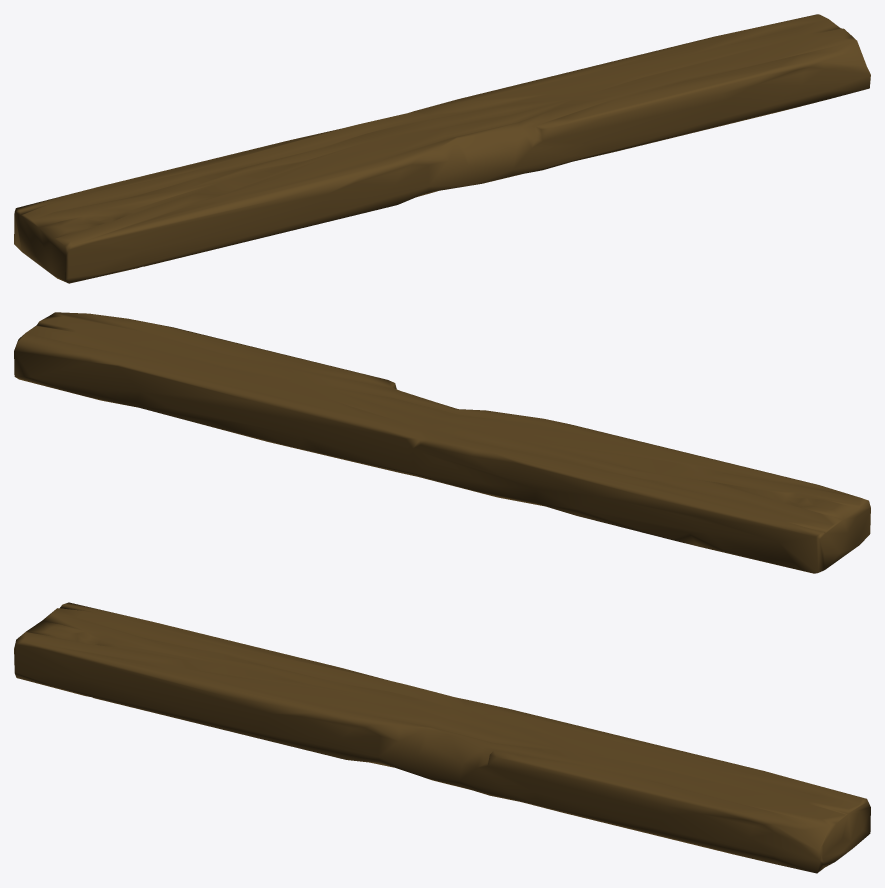
Rendered from SM_Plank01.fbx.
3 renders of one model, top to bottom at view 1: azimuth 30°, elevation 25°; view 2: azimuth 150°, elevation 25°; view 3: azimuth 330°, elevation 25°, orthographic.
Visible parts, largest first — view 1: SM_plank01; view 2: SM_plank01; view 3: SM_plank01.
Boxes of the visible parts, bbox=[...] form: SM_plank01: bbox=[14, 14, 870, 283]; SM_plank01: bbox=[14, 312, 870, 573]; SM_plank01: bbox=[14, 602, 870, 873].
Bounding box in the file's own units: 556 × 29.13 × 66.47.
